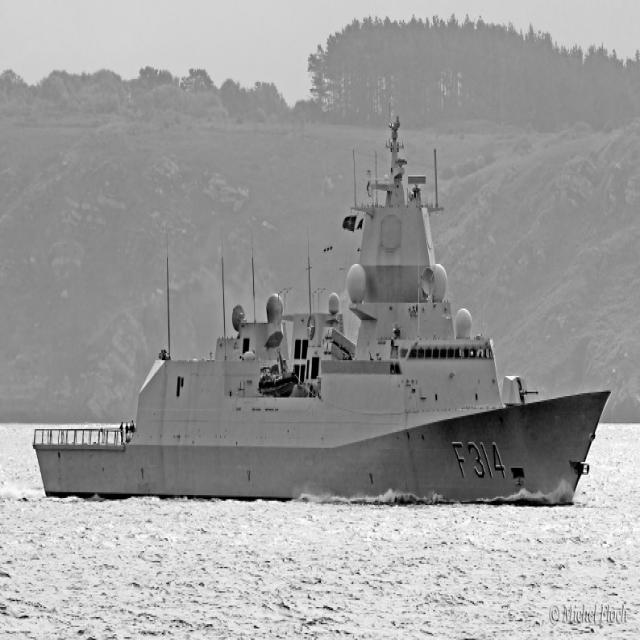Fragata: (31, 100, 616, 510)
